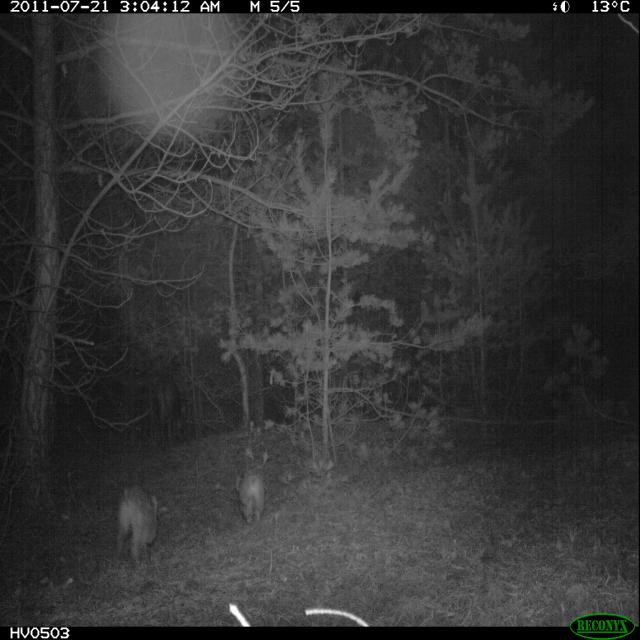boar: (86, 472, 198, 566), (218, 448, 289, 538)
